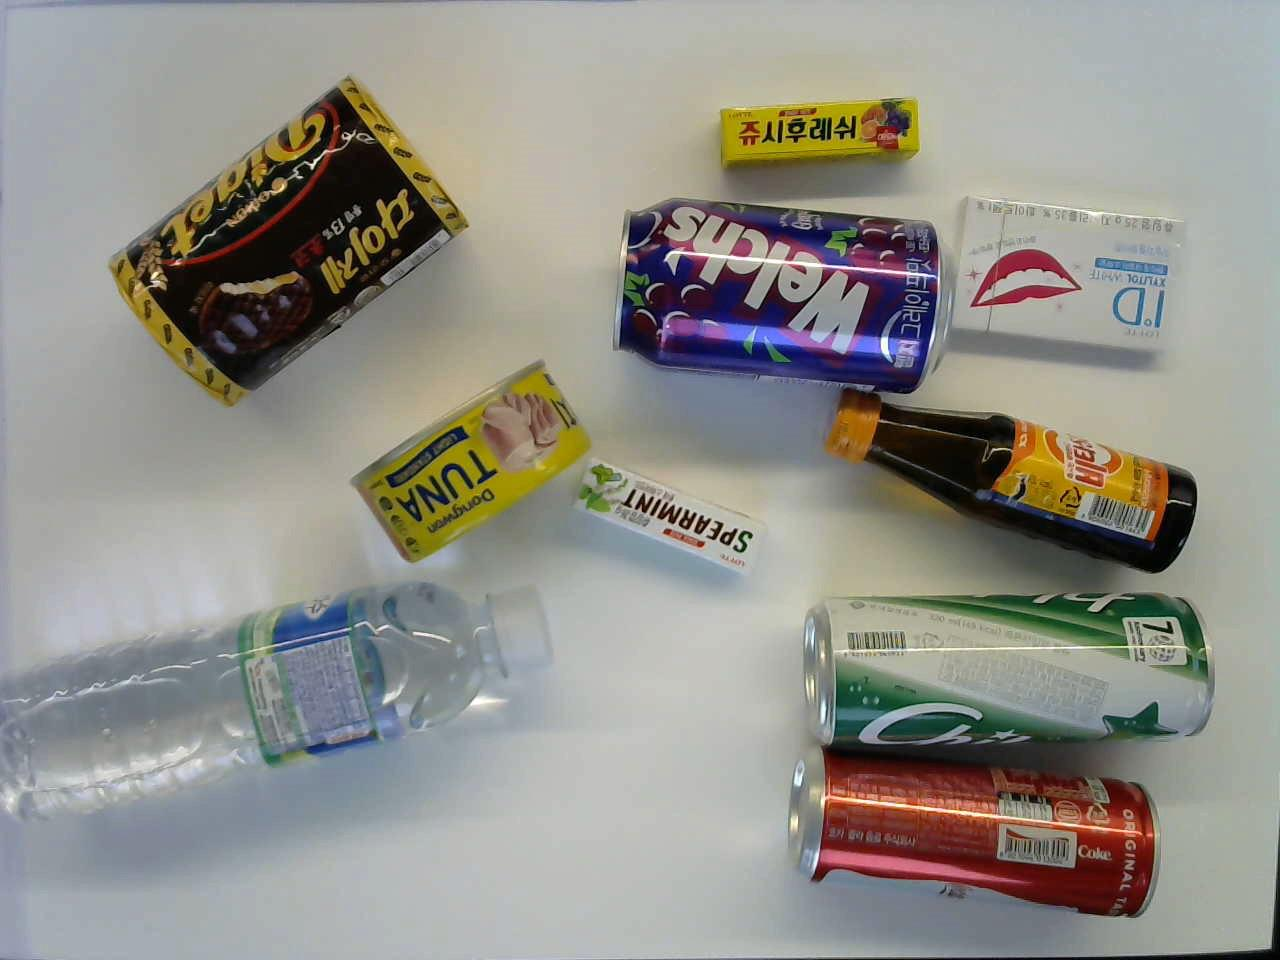ID_gum: (942, 198, 1191, 350)
cidar: (780, 590, 1219, 748)
coke: (783, 745, 1167, 922)
diget_choco: (89, 67, 479, 407)
juicyfresh: (711, 91, 924, 169)
samdasu: (5, 580, 554, 841)
spearmint: (562, 457, 774, 577)
tuna: (347, 357, 591, 567)
vita500: (815, 392, 1201, 569)
welchs: (609, 192, 954, 393)
